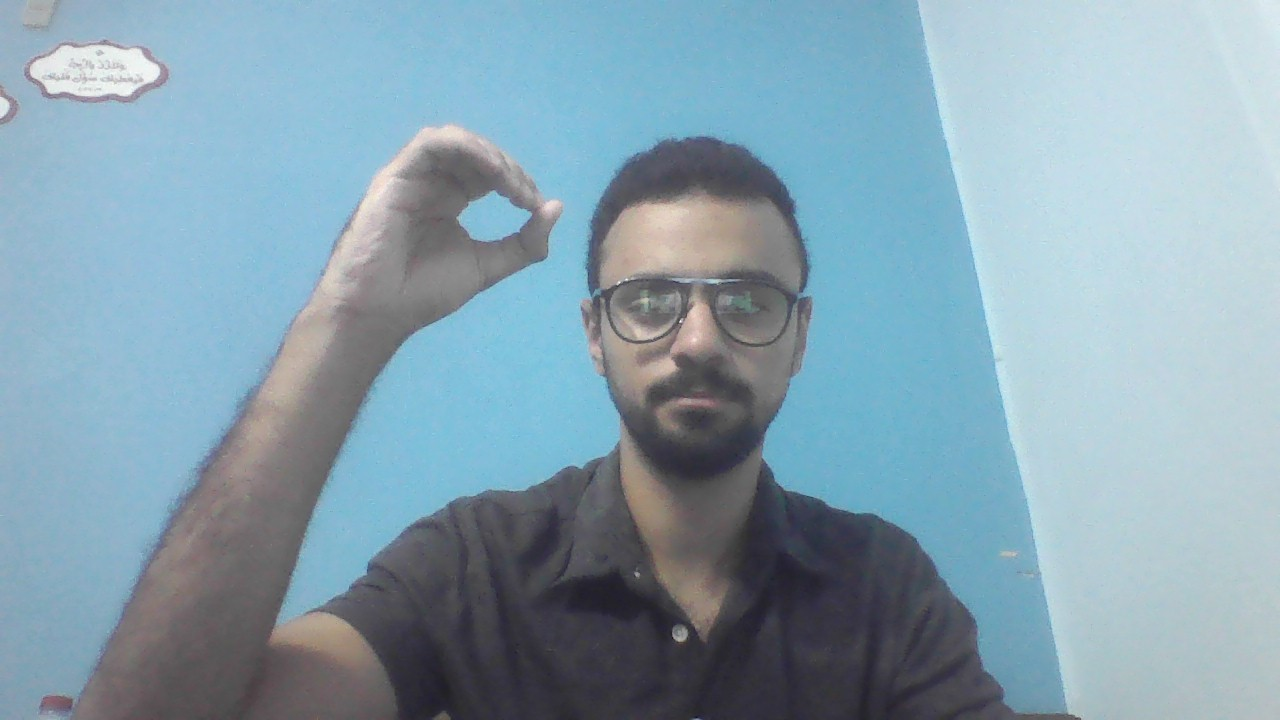okay: (322, 125, 563, 313)
